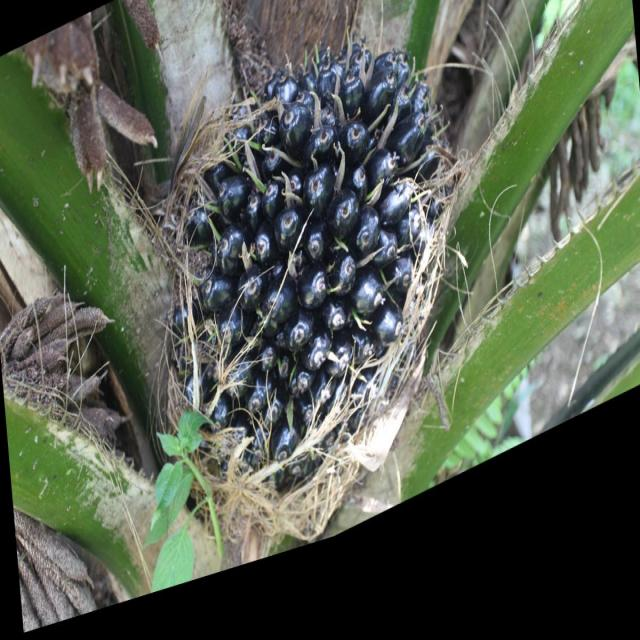Unripe: (154, 6, 474, 554)
